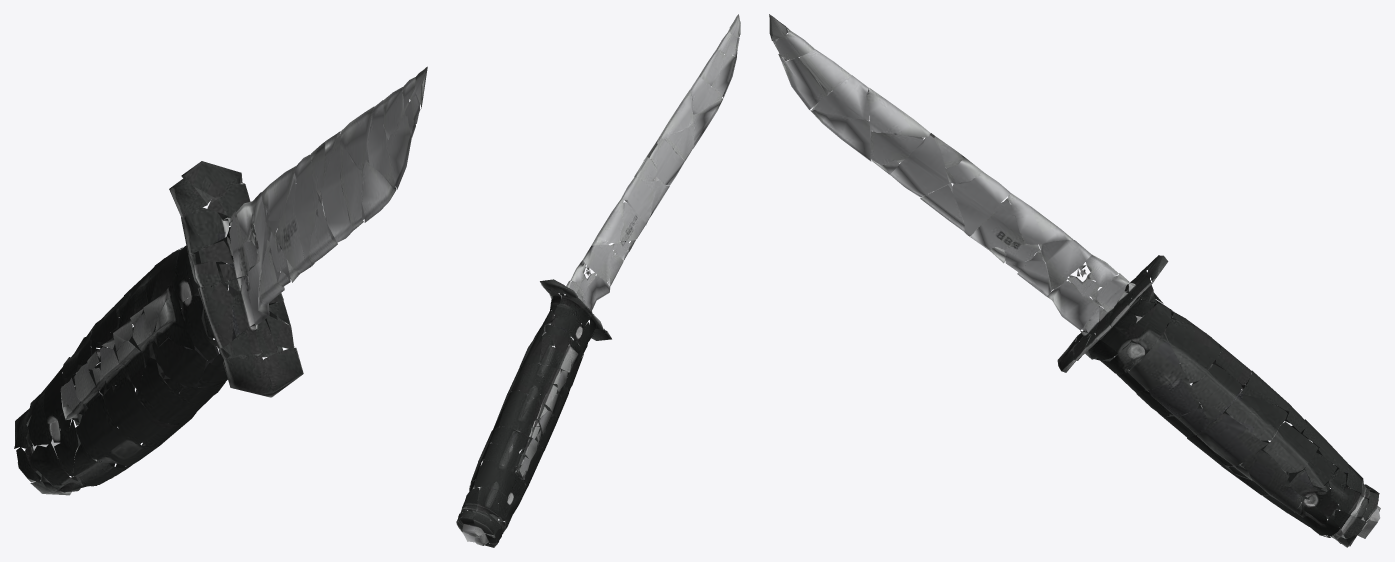
Rendered from knife.glb.
3 renders of one model, left to right at view 1: azimuth 30°, elevation 25°; view 2: azimuth 150°, elevation 25°; view 3: azimuth 270°, elevation 25°, orthographic. The views are drawn at different scales.
Parts seen in each view (by area): view 1: Mesh_0; view 2: Mesh_0; view 3: Mesh_0.
Boxes of the visible parts, <box> form: Mesh_0: <box>14,66,427,495</box>; Mesh_0: <box>456,14,740,547</box>; Mesh_0: <box>769,14,1380,547</box>.
Size of the model in its own units: 0.2966 by 1.73 by 1.89.
1 material, 1 textured.
